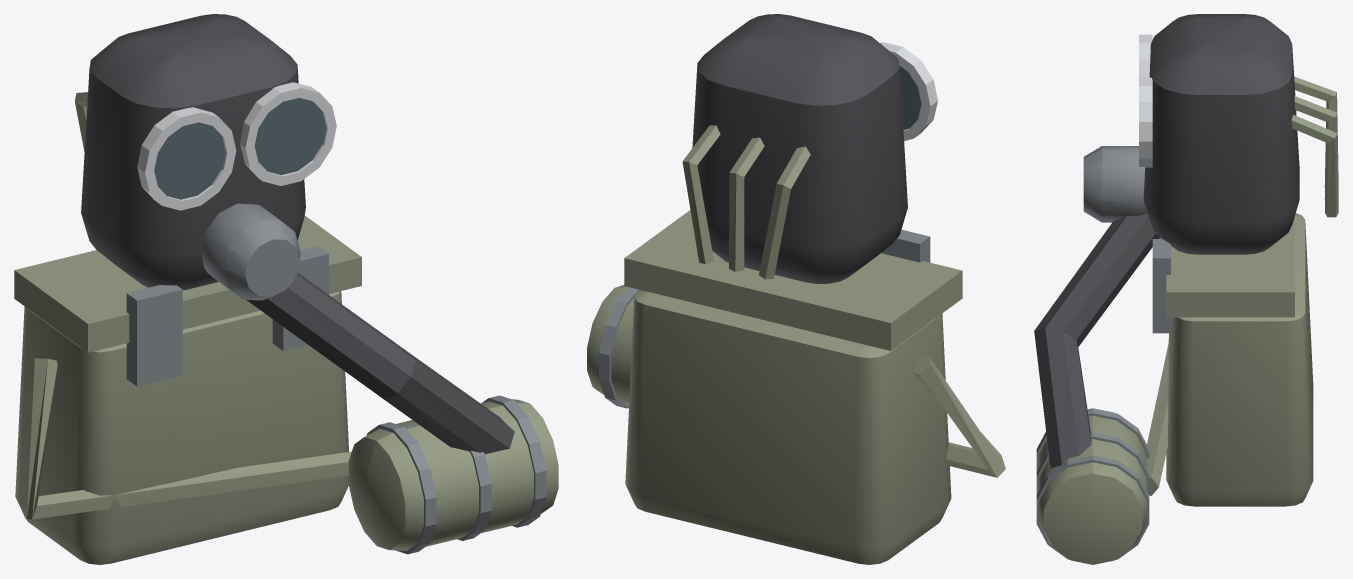
Rendered from cold-war-missile-silo-and-command-bunker-gas-mask-and--a013ebf7__15696.glb.
3 views of the same model, side by side, from view 1: azimuth 30°, elevation 25°; view 2: azimuth 150°, elevation 25°; view 3: azimuth 270°, elevation 25° (orthographic). The views are drawn at different scales.
Parts seen in each view (by area): view 1: gas-mask-and-bag; view 2: gas-mask-and-bag; view 3: gas-mask-and-bag.
Boxes of the visible parts, left/top/right/bottom form: gas-mask-and-bag: left=14, top=14, right=558, bottom=564; gas-mask-and-bag: left=587, top=14, right=1005, bottom=564; gas-mask-and-bag: left=1034, top=14, right=1338, bottom=564.
Size of the model in its own units: 0.505 by 0.511 by 0.3317.
